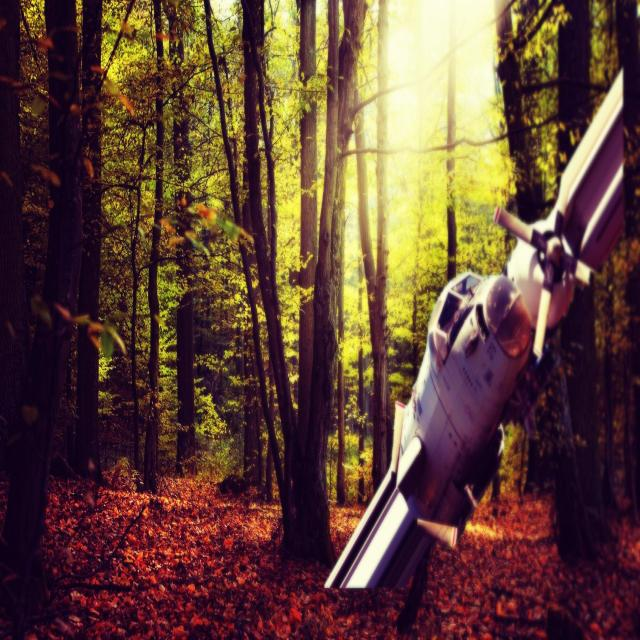airplane: (323, 64, 626, 588)
